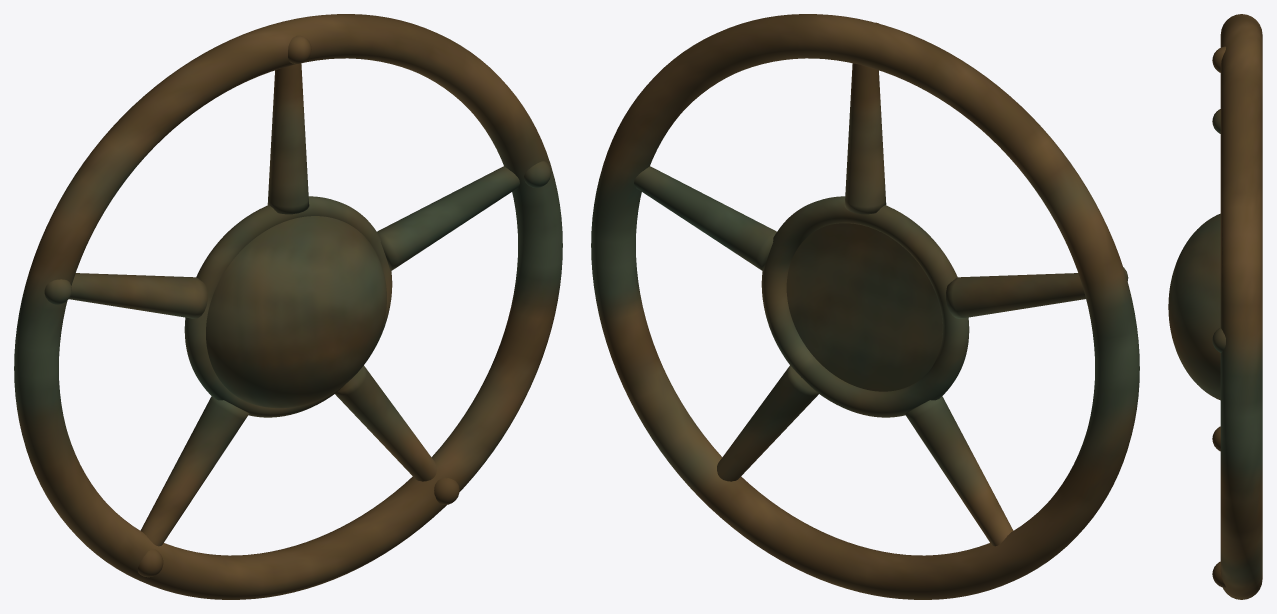
The model's file is taiyang.glb.
The picture shows the model from 3 angles, left to right: view 1: azimuth 30°, elevation 25°; view 2: azimuth 150°, elevation 25°; view 3: azimuth 270°, elevation 25°; orthographic projection. The views are drawn at different scales.
Parts seen in each view (by area): view 1: model; view 2: model; view 3: model.
Part boxes in pixels (<box>): model: <box>14,14,562,599</box>; model: <box>591,14,1139,599</box>; model: <box>1168,14,1262,599</box>.
Size of the model in its own units: 1 by 1 by 0.1607.
